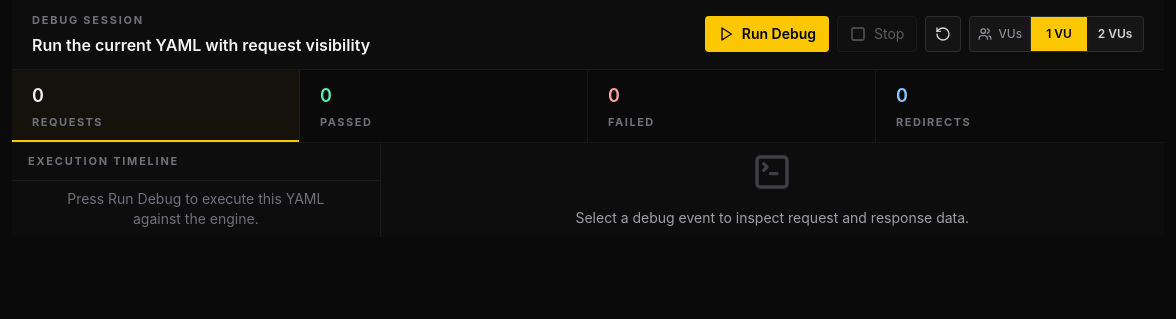
YAMLDebugSession RLP debug fixes › does not start a debug run with stale YAML when pending serialization fails
Click the button "Run Debug" at (767, 34), box [705,16,829,52]
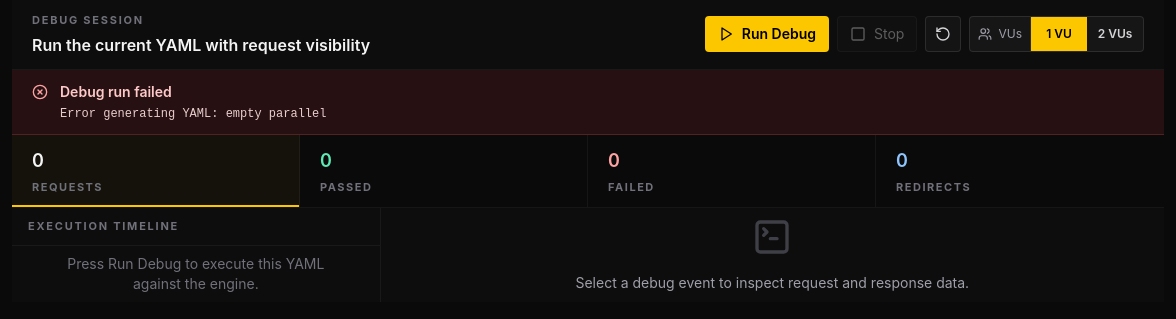
Check: the text "Error generating YAML: empty parallel" is shown, box [60,106,326,122]
